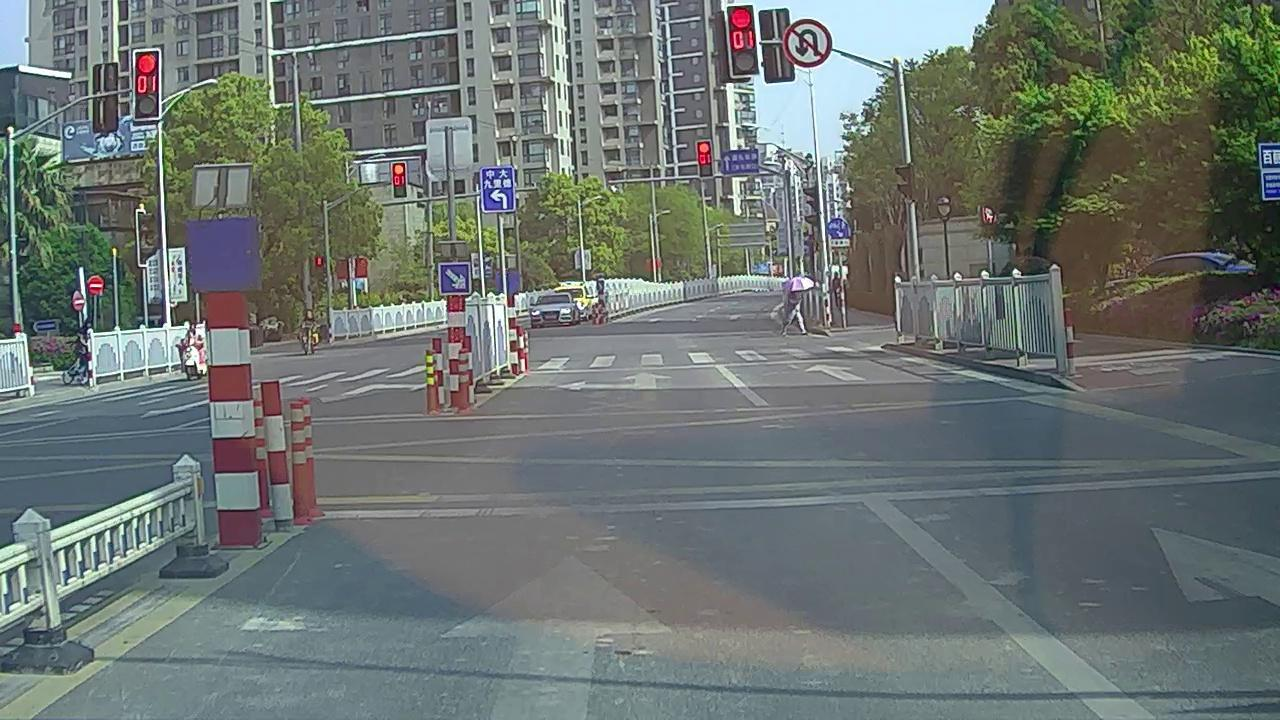traffic_light: (725, 5, 757, 75), (134, 49, 160, 119), (699, 140, 712, 179), (391, 164, 405, 197)
